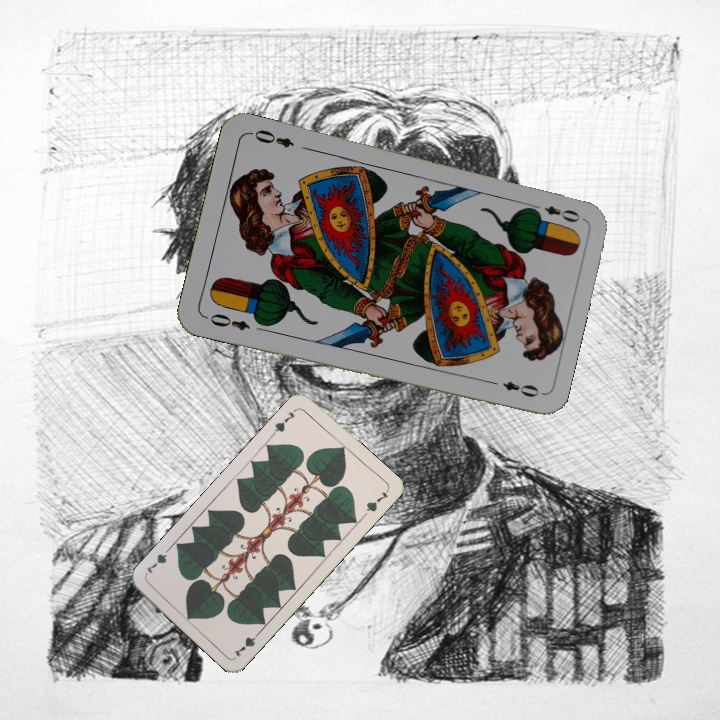EO: (526, 200, 583, 225), (206, 309, 253, 334)
G7: (230, 626, 264, 660), (268, 405, 300, 438)
